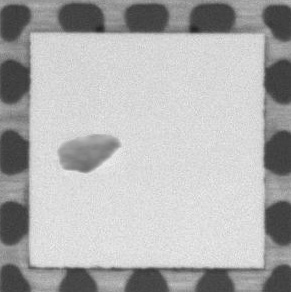DIE_INK: (53, 131, 122, 173)
